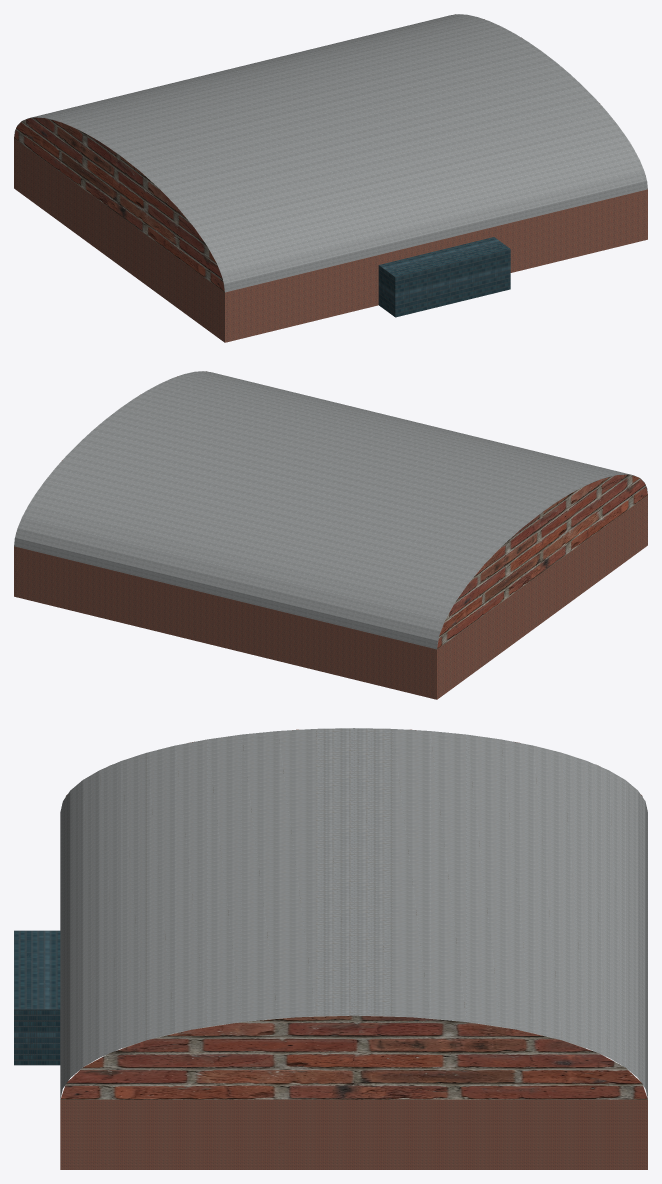
The model's file is ironport-dome_lod0.gltf.
3 renders of one model, top to bottom at view 1: azimuth 30°, elevation 25°; view 2: azimuth 150°, elevation 25°; view 3: azimuth 270°, elevation 25°, orthographic. The views are drawn at different scales.
Parts seen in each view (by area): view 1: ironport-dome_vault, ironport-dome_base, ironport-dome_ends, ironport-dome_atrium; view 2: ironport-dome_vault, ironport-dome_base, ironport-dome_ends; view 3: ironport-dome_vault, ironport-dome_base, ironport-dome_ends, ironport-dome_atrium.
Boxes of the visible parts, x1,y1,x2,y2 form: ironport-dome_vault: (14,14,647,292); ironport-dome_base: (14,125,647,342); ironport-dome_ends: (14,14,599,292); ironport-dome_atrium: (378,237,510,317); ironport-dome_vault: (14,371,647,649); ironport-dome_base: (14,482,647,699); ironport-dome_ends: (62,371,647,649); ironport-dome_vault: (60,728,647,1098); ironport-dome_base: (60,1099,647,1169); ironport-dome_ends: (60,729,647,1099); ironport-dome_atrium: (14,930,60,1065).
Size of the model in its own units: 220 by 55 by 205.
